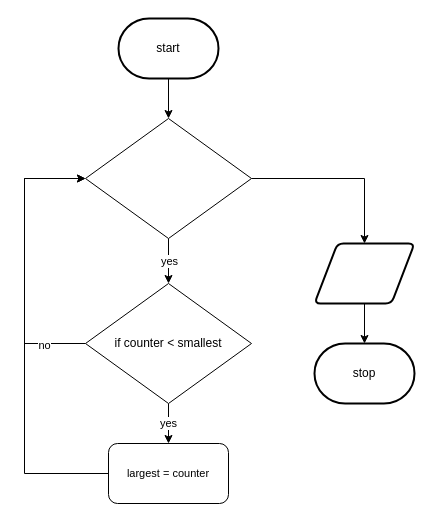
Image size: 433x521. Some labels were removed from this diagram. The centre of each missing label's shape, as x and y in pixels:
for counter=0 counter<number_array.size counter ++: the point at 168,178
return smallest: the point at 364,273
